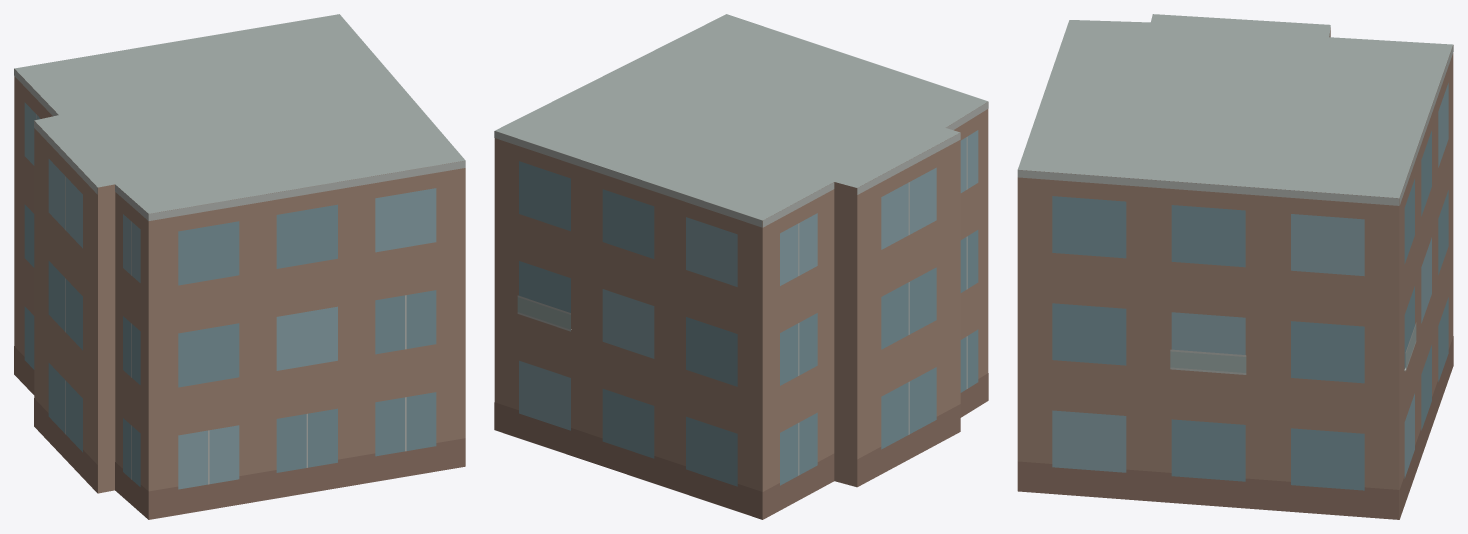
Rendered from survey-upis-32656706.glb.
3 renders of one model, left to right at view 1: azimuth 30°, elevation 25°; view 2: azimuth 150°, elevation 25°; view 3: azimuth 270°, elevation 25°, orthographic. The views are drawn at different scales.
Visible parts, largest first — view 1: survey-upis-32656706.tmp; view 2: survey-upis-32656706.tmp; view 3: survey-upis-32656706.tmp.
Boxes of the visible parts, bbox=[...] form: survey-upis-32656706.tmp: bbox=[14, 14, 465, 519]; survey-upis-32656706.tmp: bbox=[494, 14, 988, 519]; survey-upis-32656706.tmp: bbox=[1017, 14, 1453, 519].
Bounding box in the file's own units: 12.54 × 10.2 × 12.53.
